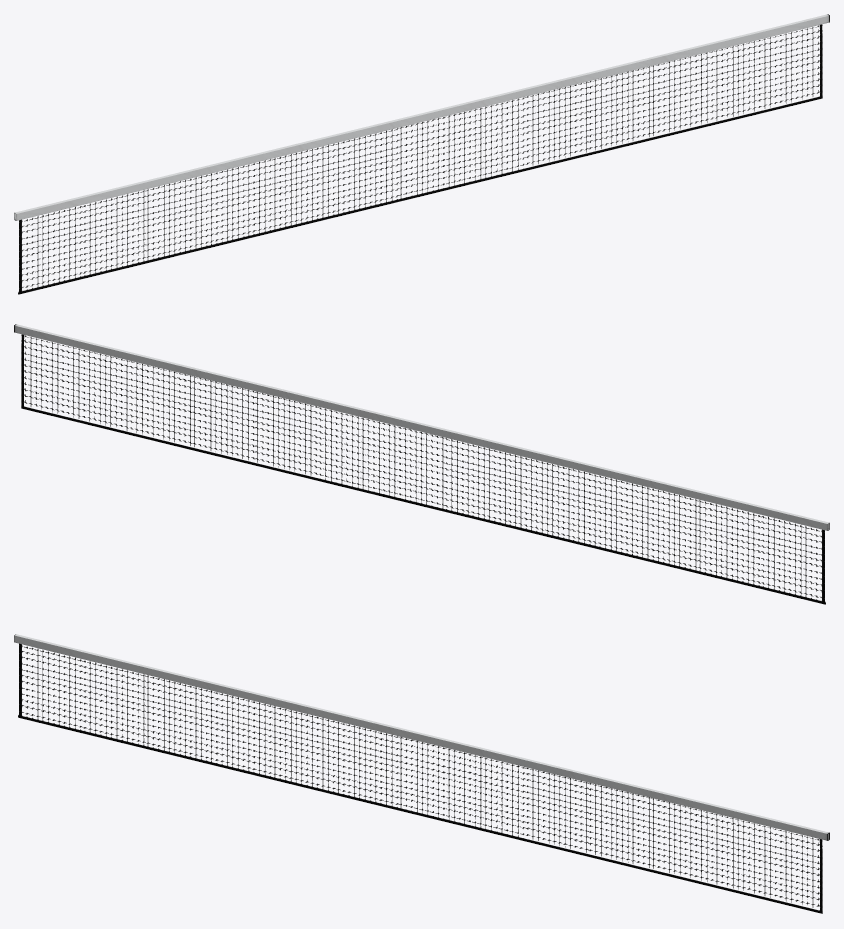
File: TennisNet.fbx
The picture shows the model from 3 angles, top to bottom: view 1: azimuth 30°, elevation 25°; view 2: azimuth 150°, elevation 25°; view 3: azimuth 330°, elevation 25°; orthographic projection.
Parts seen in each view (by area): view 1: TennisNetPole; view 2: TennisNetPole; view 3: TennisNetPole.
Part boxes in pixels (<box>): TennisNetPole: <box>14,14,829,294</box>; TennisNetPole: <box>14,324,829,604</box>; TennisNetPole: <box>14,634,829,913</box>.
Size of the model in its own units: 12.15 by 1.19 by 0.0495.
2 materials, 2 textured.
